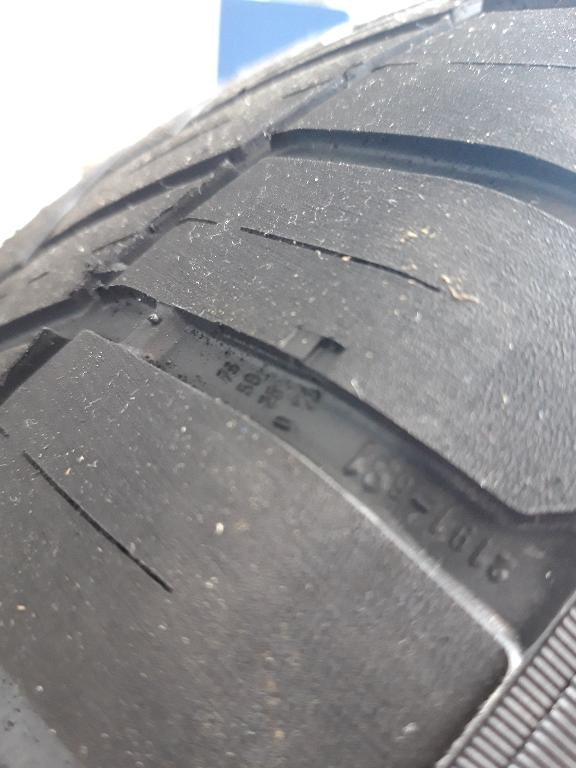temoin:25: (262, 316, 357, 400)
